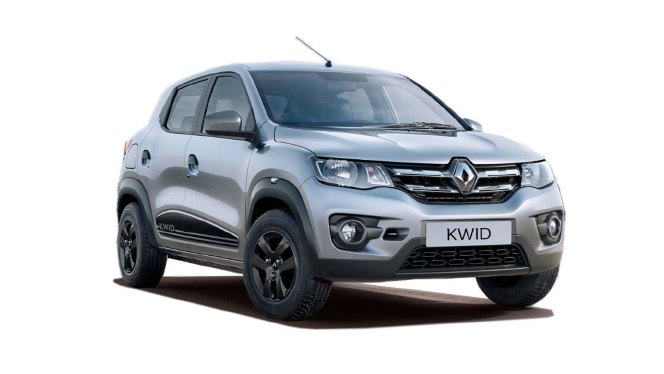Car: (111, 54, 572, 329)
